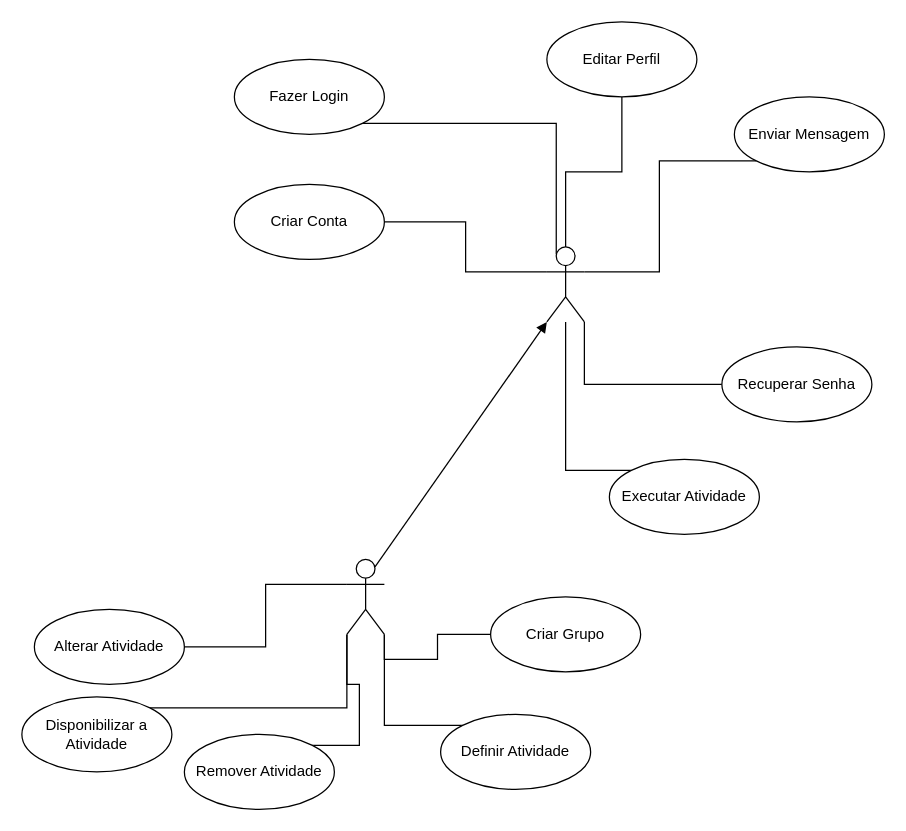
The diagram is 906 pixels wide and 831 high, and some of its shapes have lost their labels. The box of each missing label's shape, as (x1, y1, x2, y2) in pixels:
Administrador: (346, 558, 384, 634)
Usuário: (546, 246, 584, 322)
